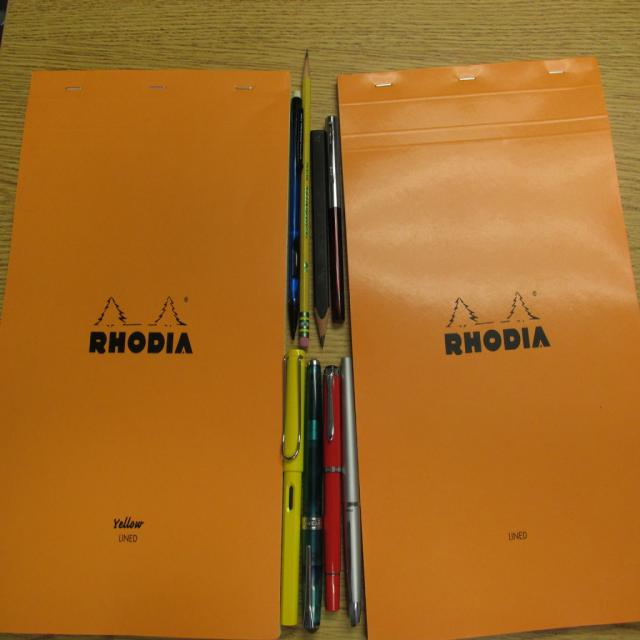pen: (281, 351, 361, 628), (321, 115, 346, 322), (284, 89, 302, 343)
